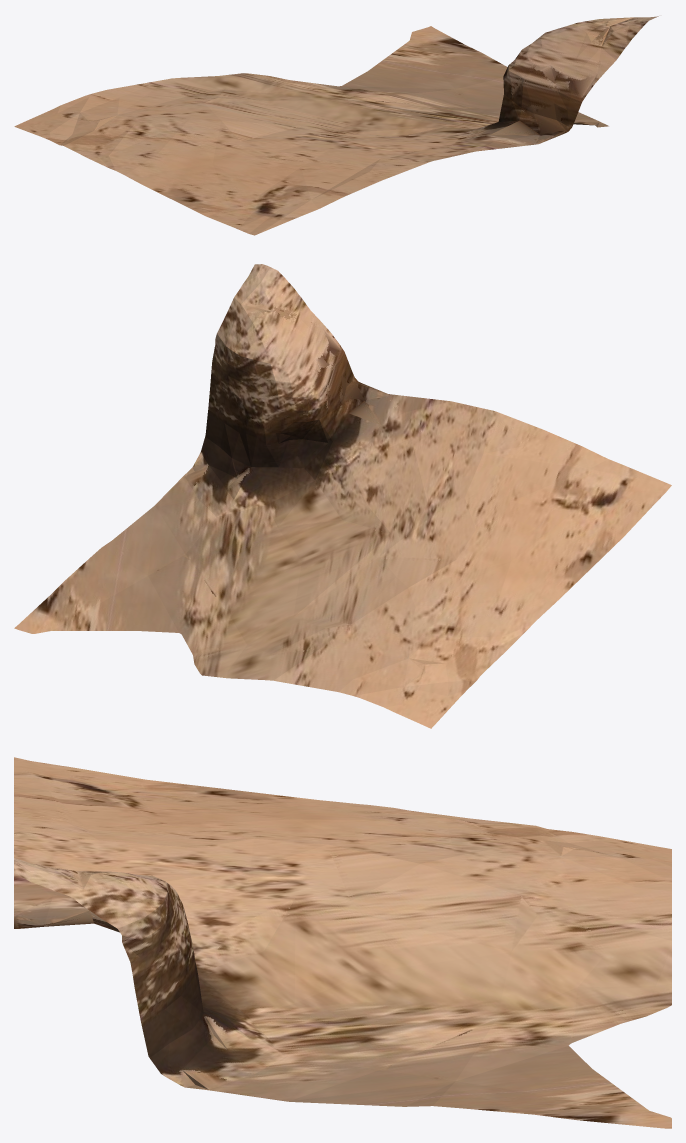
3 renders of one model, top to bottom at view 1: azimuth 30°, elevation 25°; view 2: azimuth 150°, elevation 25°; view 3: azimuth 270°, elevation 25°, orthographic. The views are drawn at different scales.
Bounding box in the file's own units: 1.04 × 0.4572 × 1.04.
Materials: 2 (2 with a texture image).
